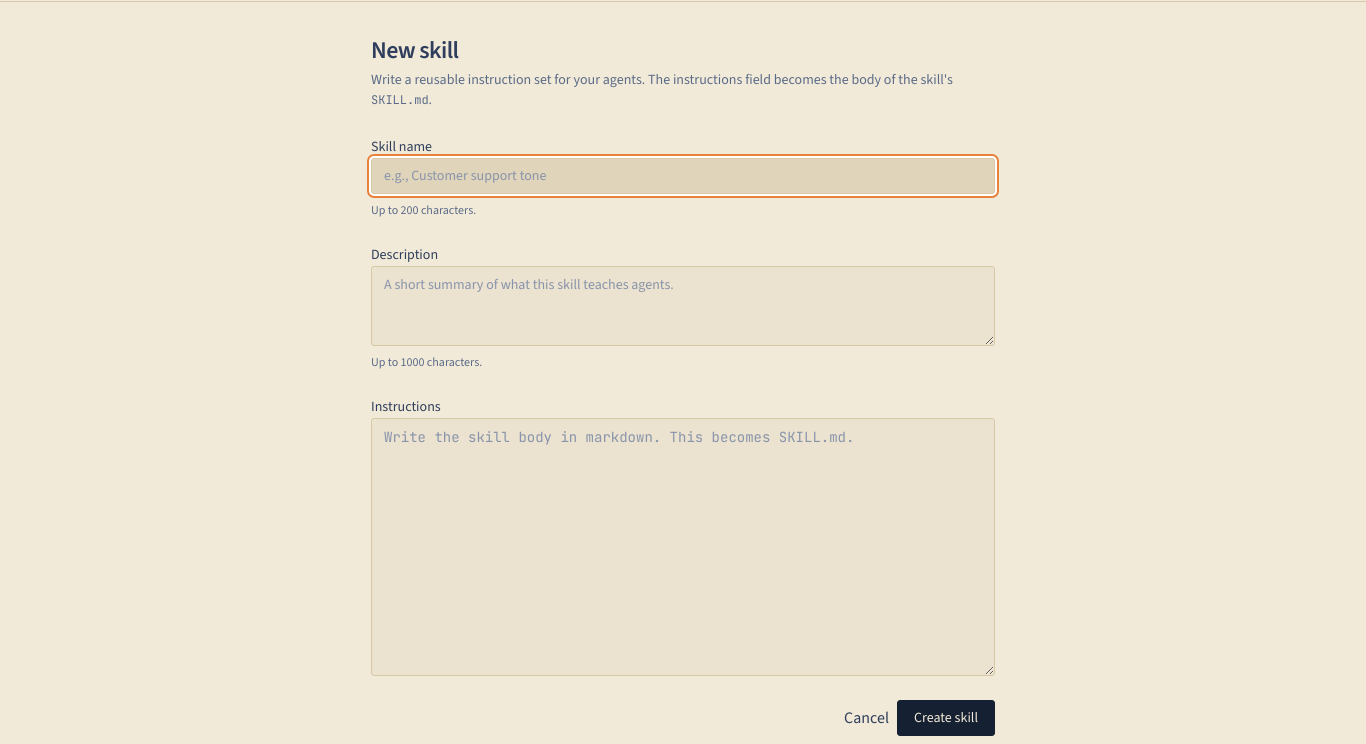
it: NewSkillPage › shows validation error when name is empty
(page scrolled)
Step 1. Click the button "Create skill" → (946, 718), box left=897, top=700, right=995, bottom=736
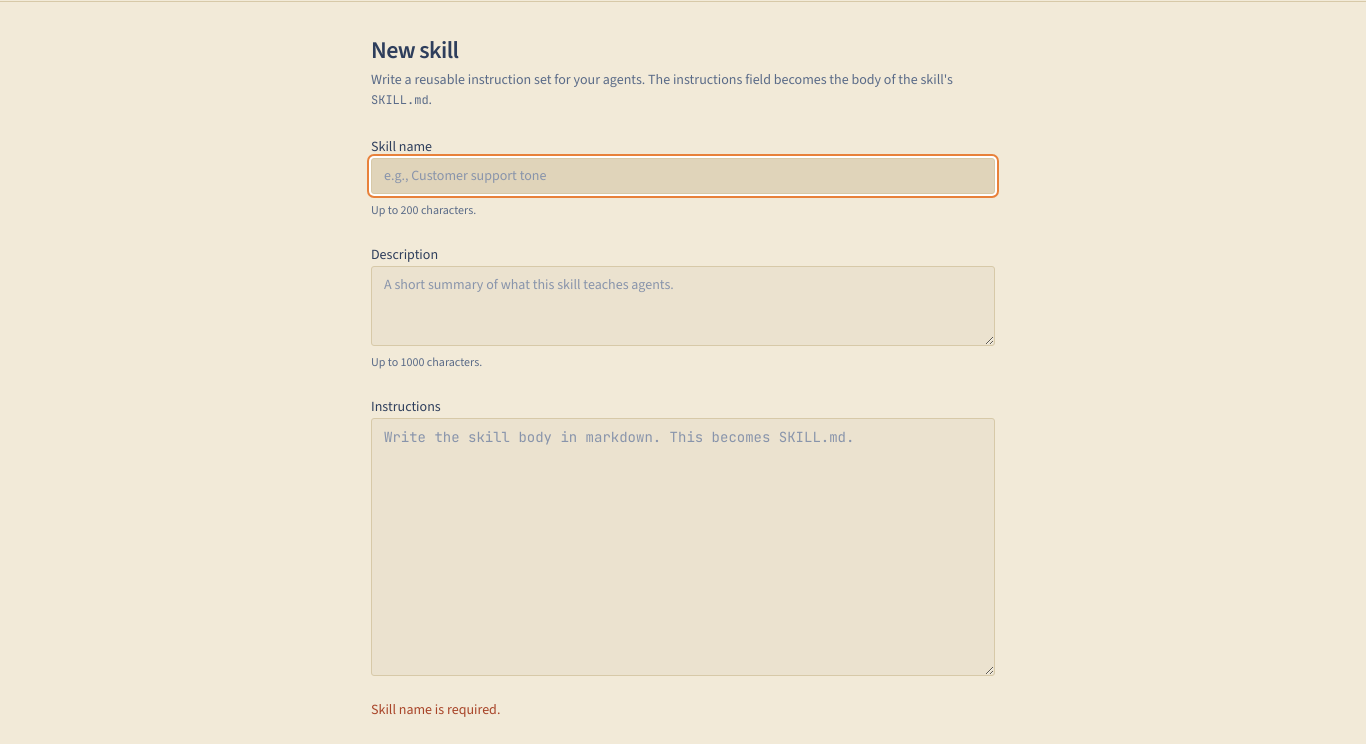
Expected: the message shows "Skill name is required", left=371, top=700, right=500, bottom=718
